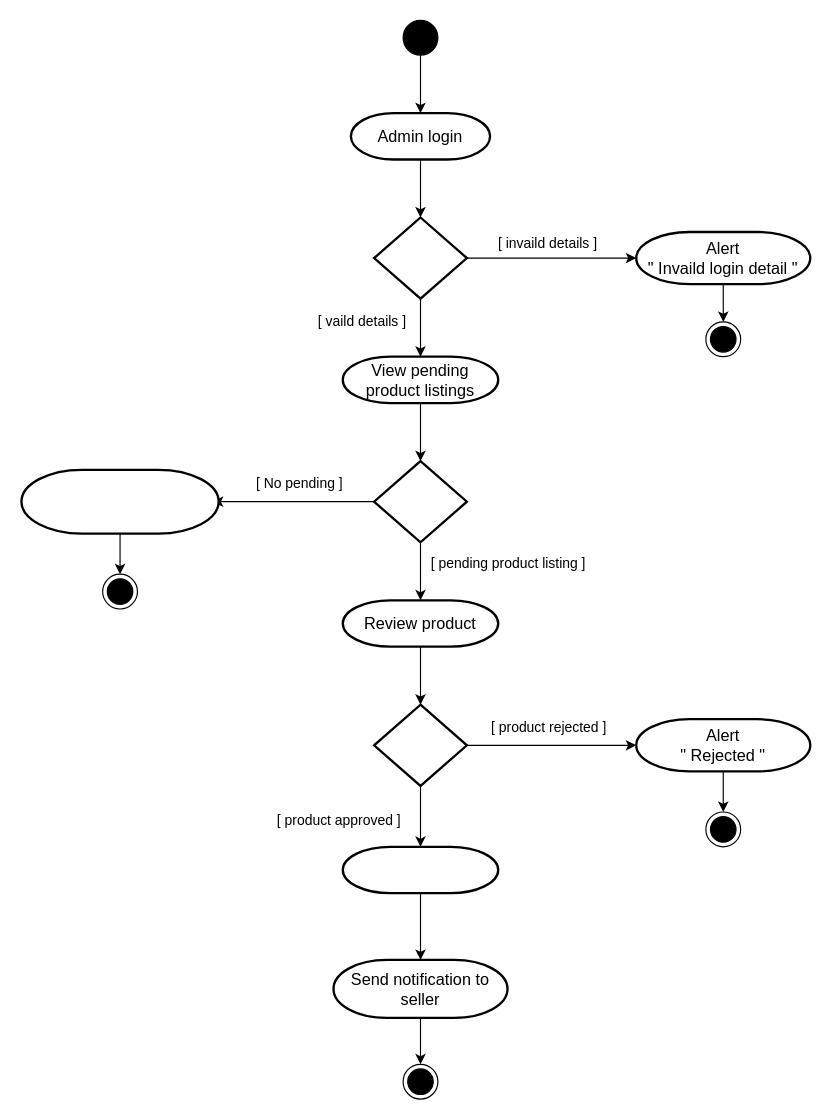
This 831x1119 diagram has some shape labels left out. Each missing label, with the centre of its shape:
Alert " No pending product listing ": point (119, 501)
Approve product: point (420, 869)
